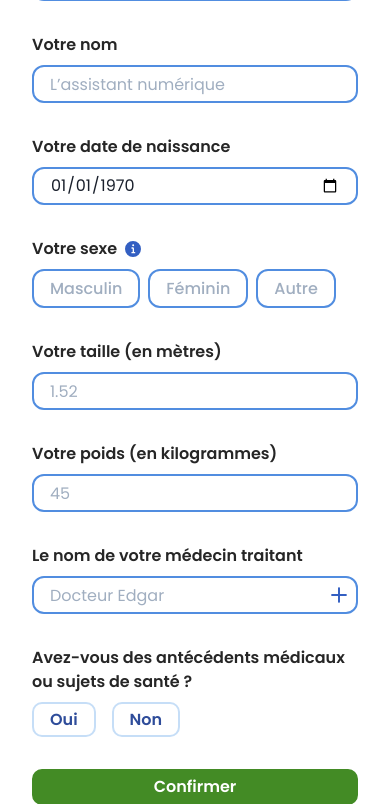
Test: Personal Info Page tests - Mobile › Working page › Error states › Bad weight (too big)
The image size is (390, 804).
(page scrolled)
Type "400" into the number field with id "edgar-onboardingPersonalPage-formWeight-input". click: {"x": 195, "y": 493}
box: [32, 474, 358, 512]
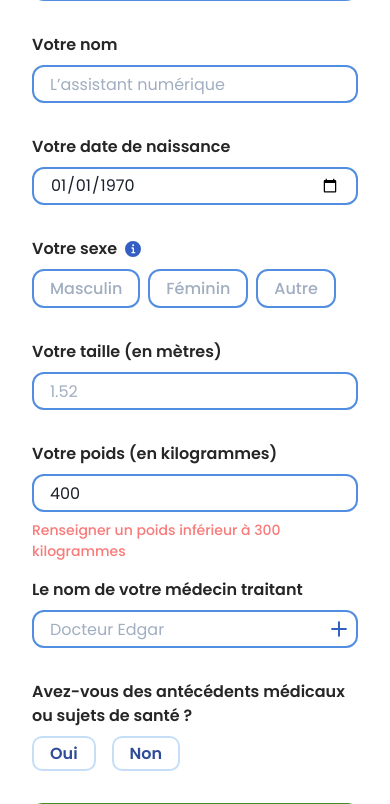
Result: the text with id "edgar-onboardingPersonalPage-formWeightErrorMax-text" reads "Renseigner un poids inférieur à 300 kilogrammes" at [32, 520, 280, 561]
